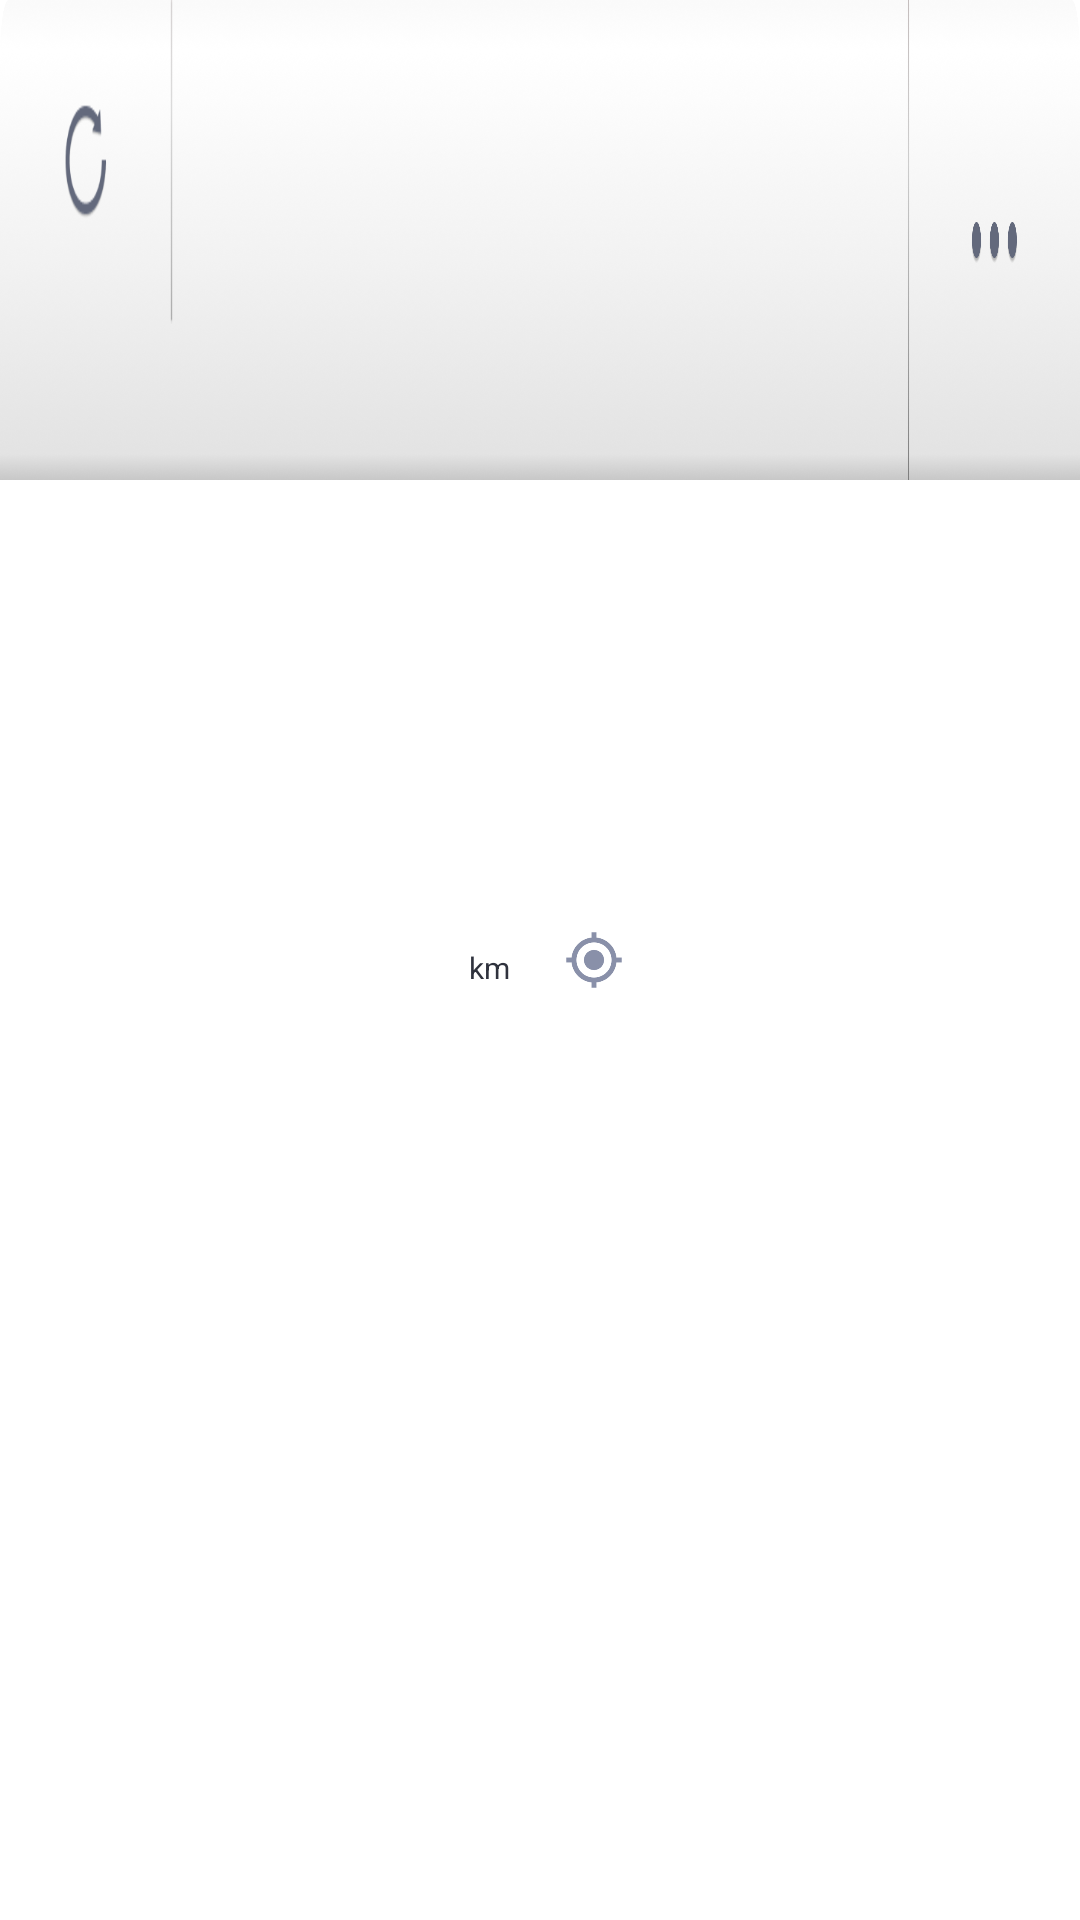

Screen size 1080x1920. Icon name, then its box in pixels as BBox(x1, y1, x2, y2):
location: BBox(566, 932, 622, 988)
